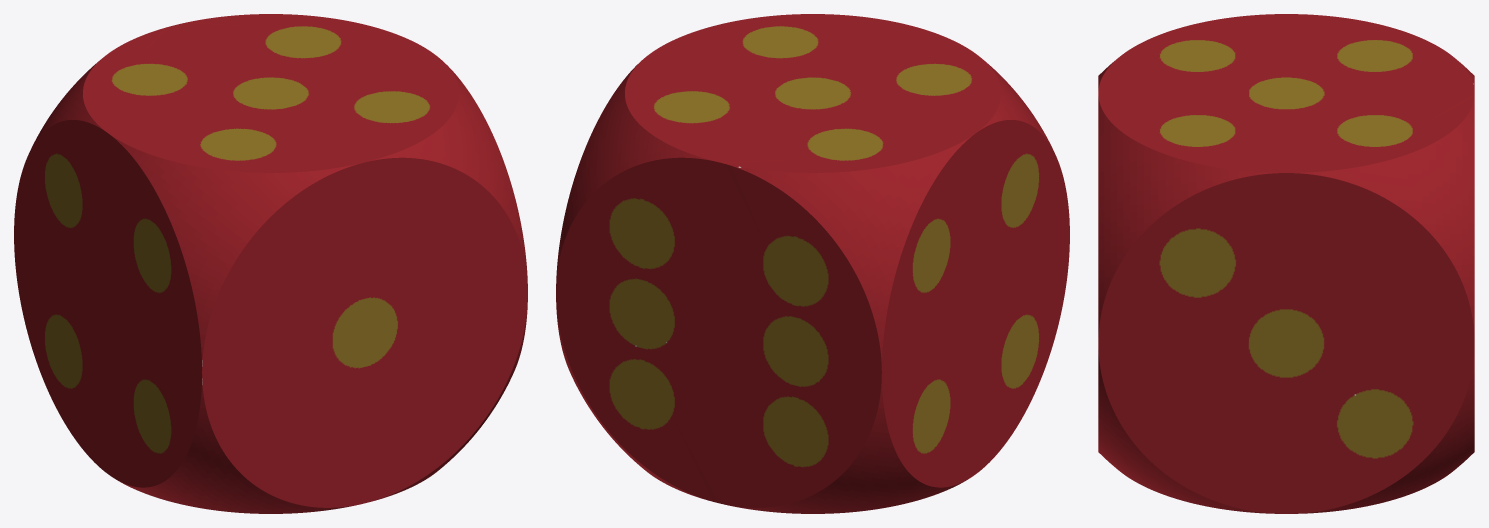
Rendered from dice_red_visual.obj.
3 renders of one model, left to right at view 1: azimuth 30°, elevation 25°; view 2: azimuth 150°, elevation 25°; view 3: azimuth 270°, elevation 25°, orthographic.
Parts seen in each view (by area): view 1: dice_red; view 2: dice_red; view 3: dice_red.
Boxes of the visible parts, left/top/right/bottom form: dice_red: left=14, top=14, right=527, bottom=513; dice_red: left=556, top=14, right=1069, bottom=513; dice_red: left=1098, top=14, right=1474, bottom=513.
Bounding box in the file's own units: 0.03 × 0.03 × 0.03.
Materials: 1 (1 with a texture image).
